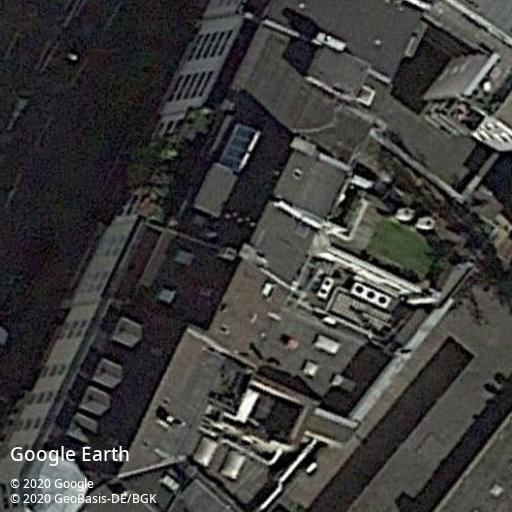Chiller: (351, 282, 392, 310), (317, 275, 334, 298)
